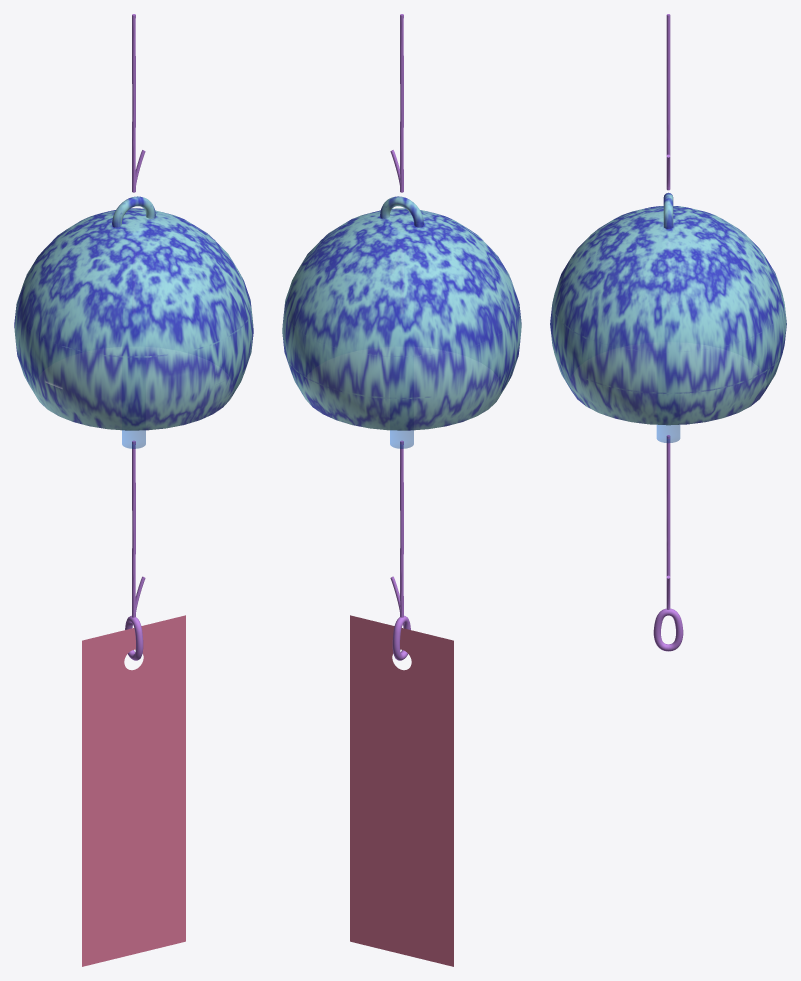
The model's file is tatami.glb.
The picture shows the model from 3 angles, left to right: view 1: azimuth 30°, elevation 25°; view 2: azimuth 150°, elevation 25°; view 3: azimuth 270°, elevation 25°; orthographic projection.
Parts seen in each view (by area): view 1: BézierCircle.010; view 2: BézierCircle.010; view 3: BézierCircle.010.
Part boxes in pixels (bbox=[...]): BézierCircle.010: bbox=[14, 14, 253, 966]; BézierCircle.010: bbox=[282, 14, 521, 966]; BézierCircle.010: bbox=[550, 14, 786, 651].
Bounding box in the file's own units: 0.1537 × 0.6638 × 0.1537.
Materials: 4 (1 with a texture image).
